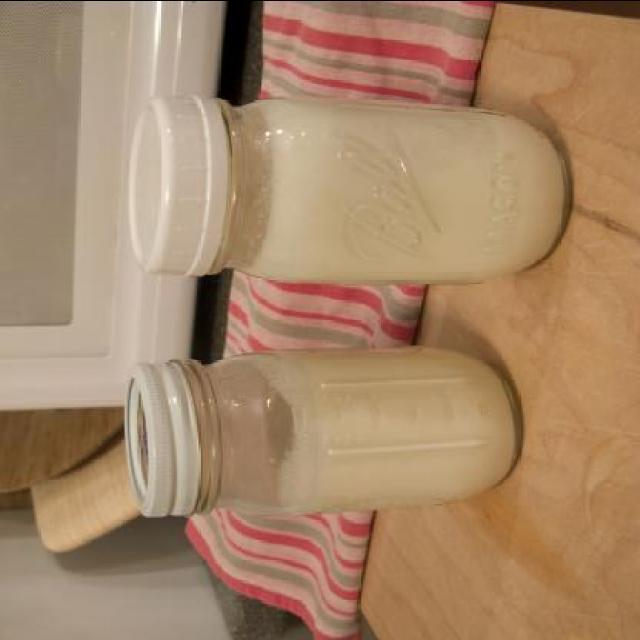Milk: (116, 96, 584, 296), (254, 348, 526, 514)
